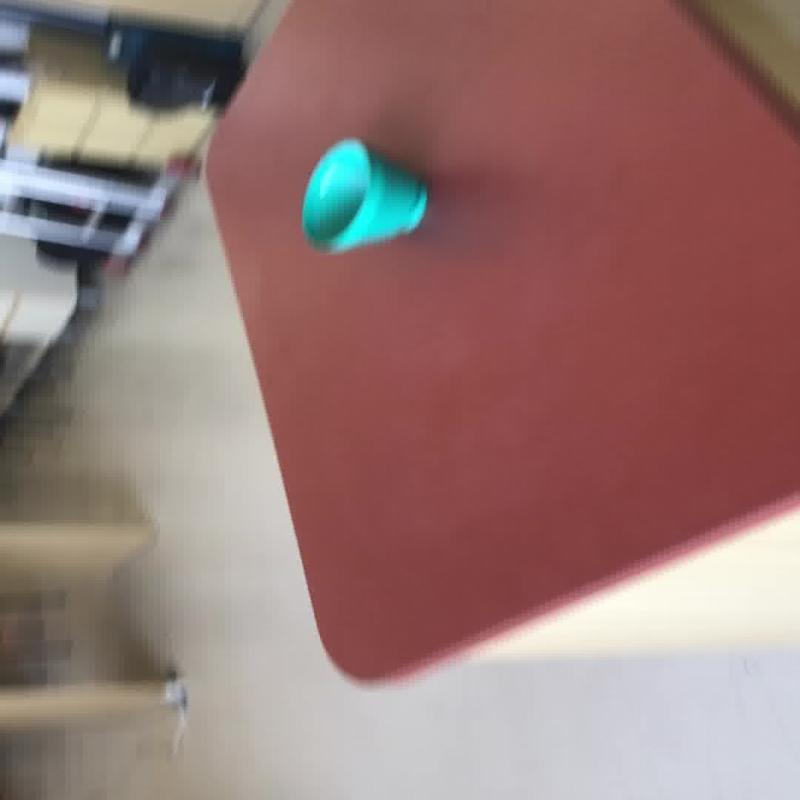bowl: (200, 0, 797, 683)
